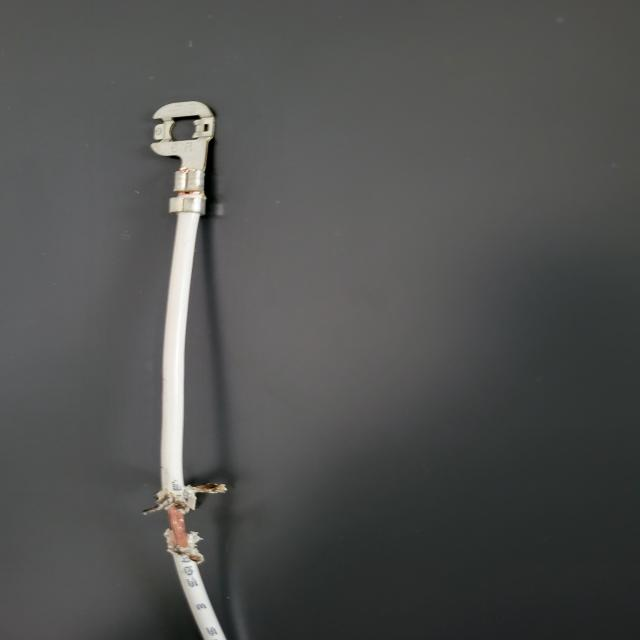defect: (96, 426, 325, 612)
